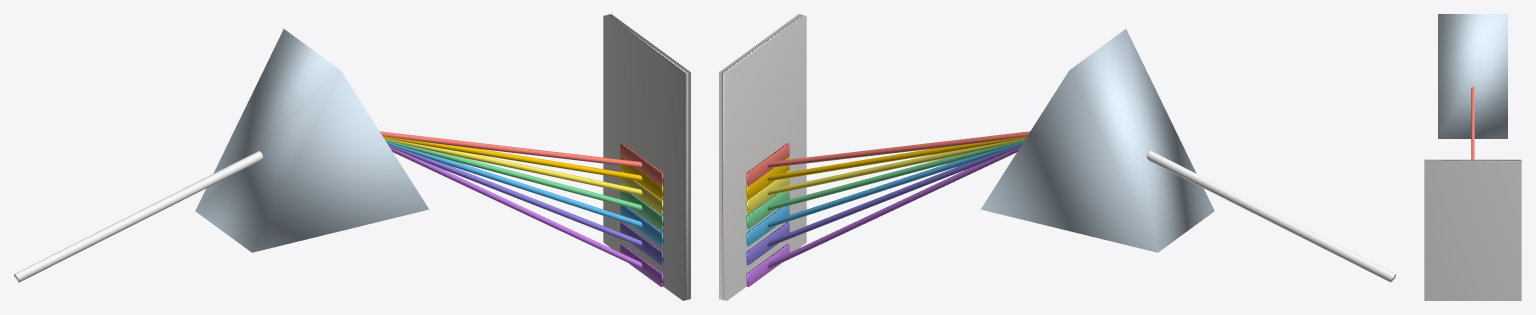
File: prism.glb
3 views of the same model, side by side, from view 1: azimuth 30°, elevation 25°; view 2: azimuth 150°, elevation 25°; view 3: azimuth 270°, elevation 25° (orthographic). The views are drawn at different scales.
Parts seen in each view (by area): view 1: prism, screen, white_light, red, violet, indigo, blue, green, yellow, orange; view 2: prism, screen, white_light, red, violet, indigo, blue, green, yellow, orange; view 3: screen, prism, red.
Boxes of the visible parts, bbox=[...] form: prism: bbox=[195, 29, 428, 252]; screen: bbox=[603, 14, 690, 300]; white_light: bbox=[14, 151, 263, 282]; red: bbox=[262, 131, 663, 186]; violet: bbox=[390, 147, 663, 287]; indigo: bbox=[388, 144, 663, 265]; blue: bbox=[386, 142, 663, 246]; green: bbox=[385, 140, 663, 229]; yellow: bbox=[384, 138, 663, 213]; orange: bbox=[261, 136, 663, 199]; prism: bbox=[981, 29, 1214, 252]; screen: bbox=[719, 14, 806, 300]; white_light: bbox=[1146, 151, 1395, 282]; red: bbox=[746, 131, 1147, 186]; violet: bbox=[746, 147, 1019, 287]; indigo: bbox=[746, 144, 1021, 265]; blue: bbox=[746, 142, 1023, 246]; green: bbox=[746, 140, 1024, 229]; yellow: bbox=[746, 138, 1025, 213]; orange: bbox=[746, 136, 1148, 199]; screen: bbox=[1424, 159, 1521, 300]; prism: bbox=[1438, 14, 1507, 138]; red: bbox=[1471, 87, 1474, 159].
Bounding box in the file's own units: 0.3225 × 0.147 × 0.07.
